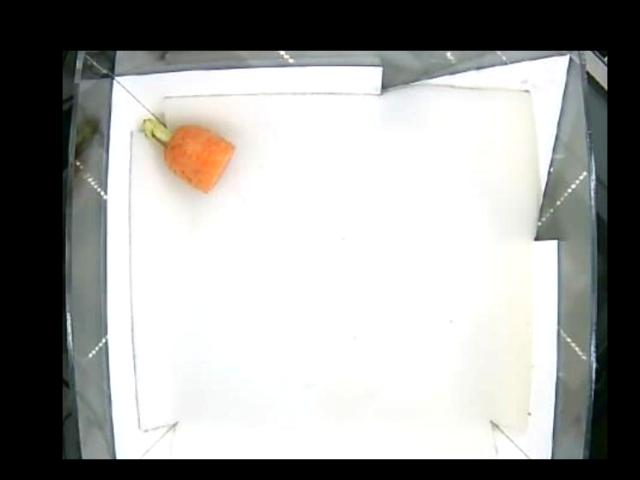Carrot: (138, 114, 233, 196)
